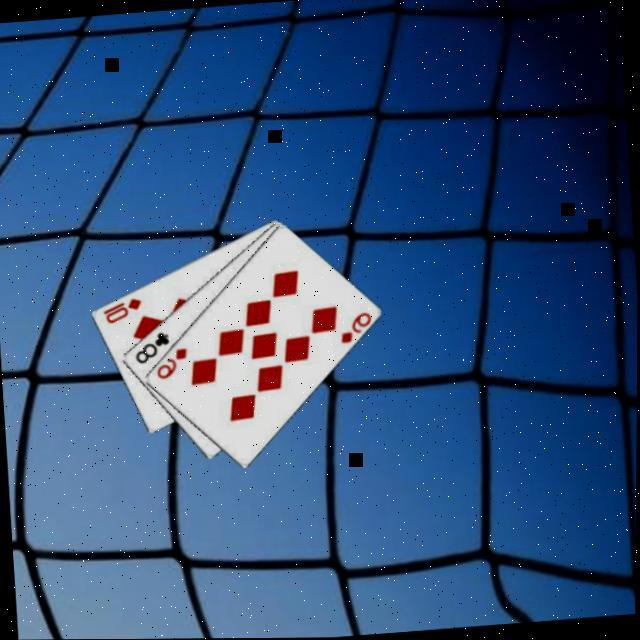10D: (99, 291, 145, 324)
8C: (131, 325, 173, 364)
9D: (336, 306, 376, 344), (152, 343, 191, 380)
